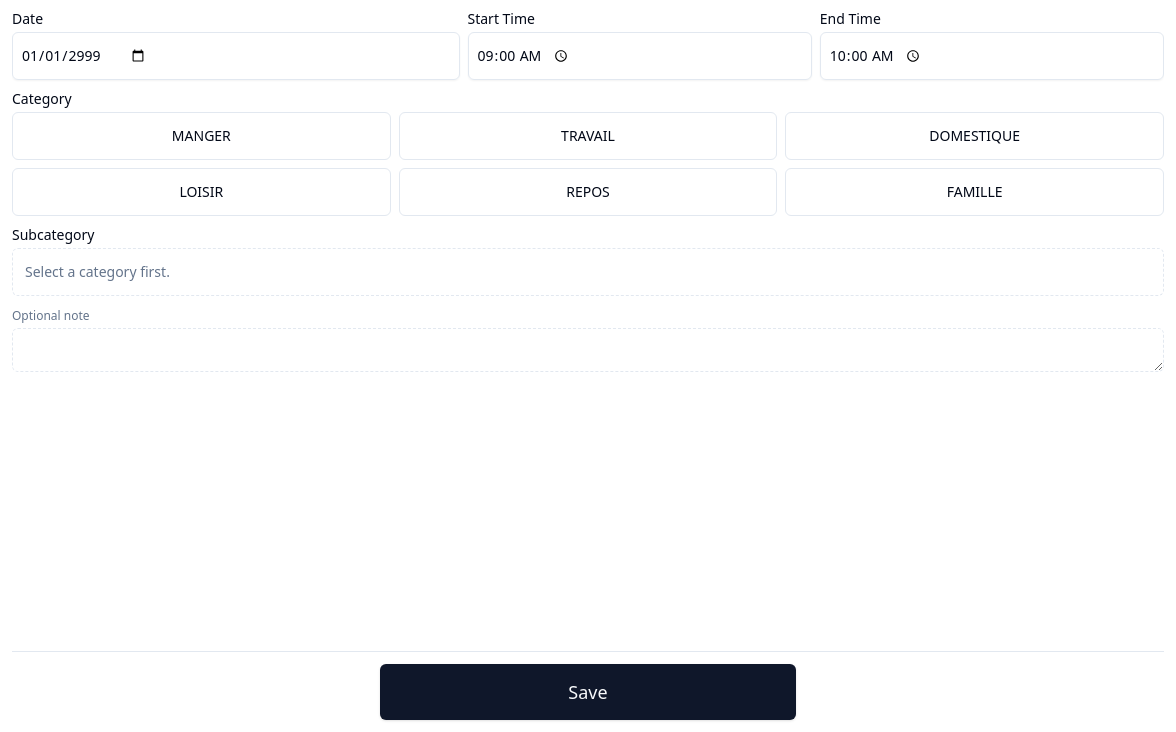
Test case: ActivityForm › blocks future activities on the client
Click the button "REPOS" at (588, 192), box left=399, top=168, right=777, bottom=216
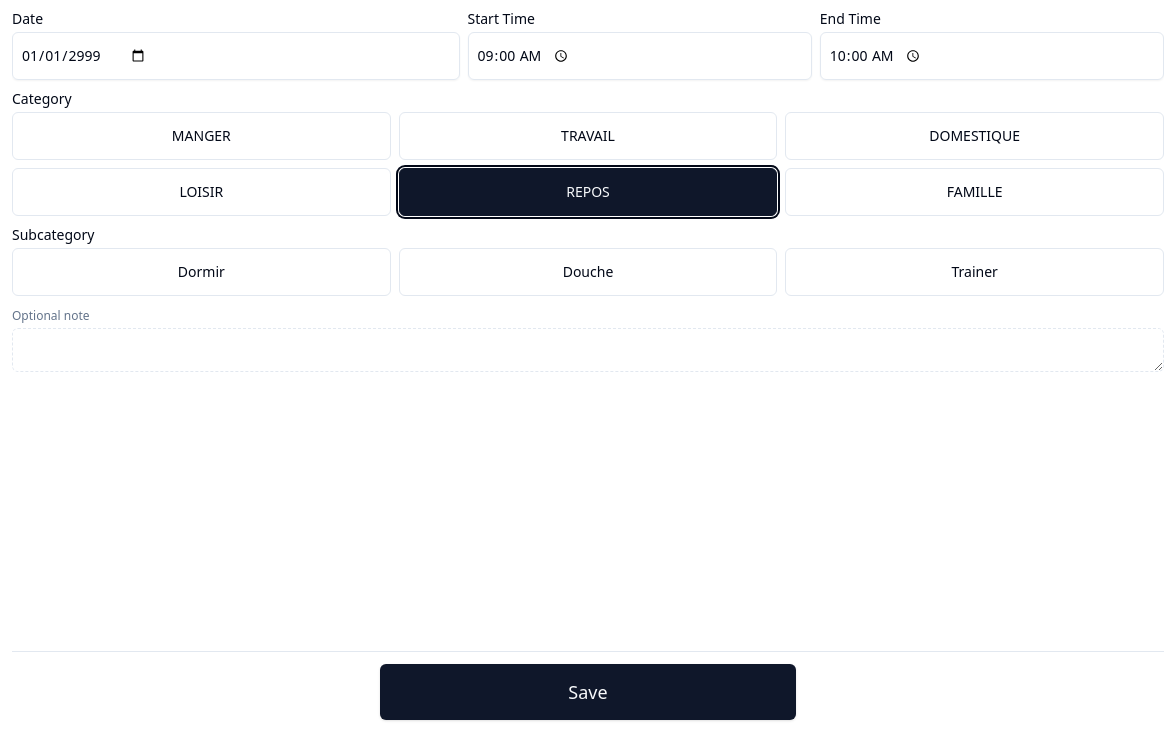
Click the button "Douche" at (588, 272), box left=399, top=248, right=777, bottom=296
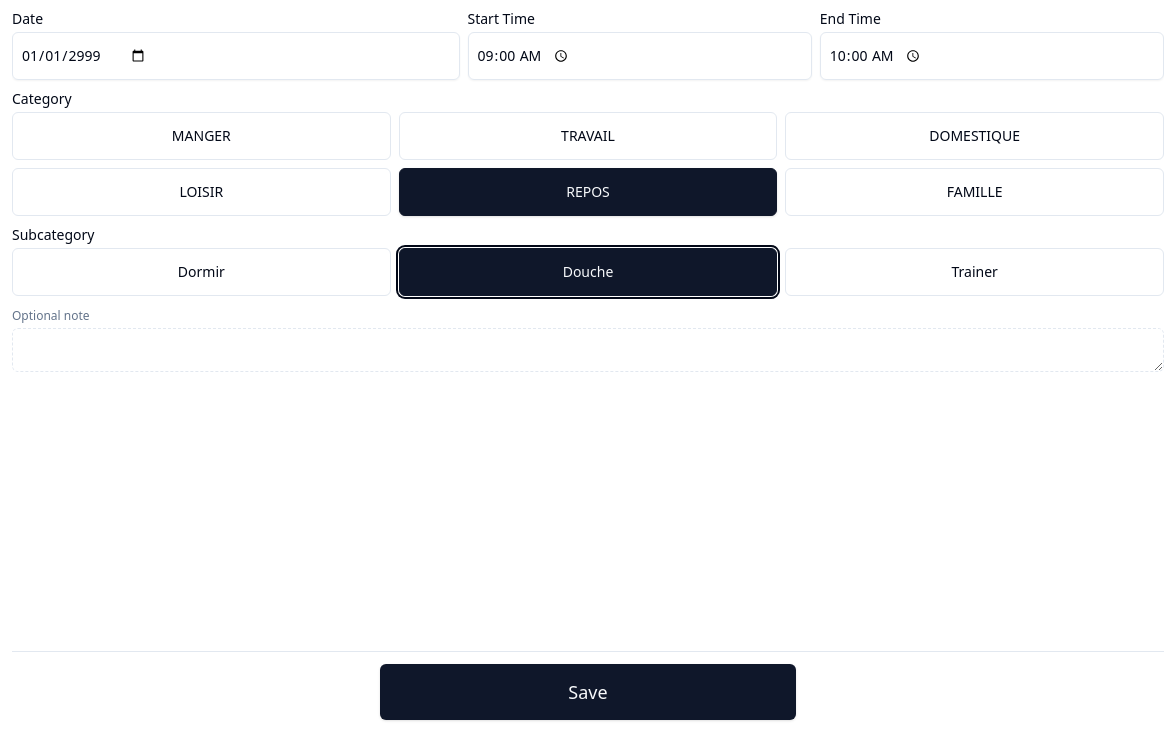
Click the button "Save" at (588, 692), box left=380, top=664, right=796, bottom=720
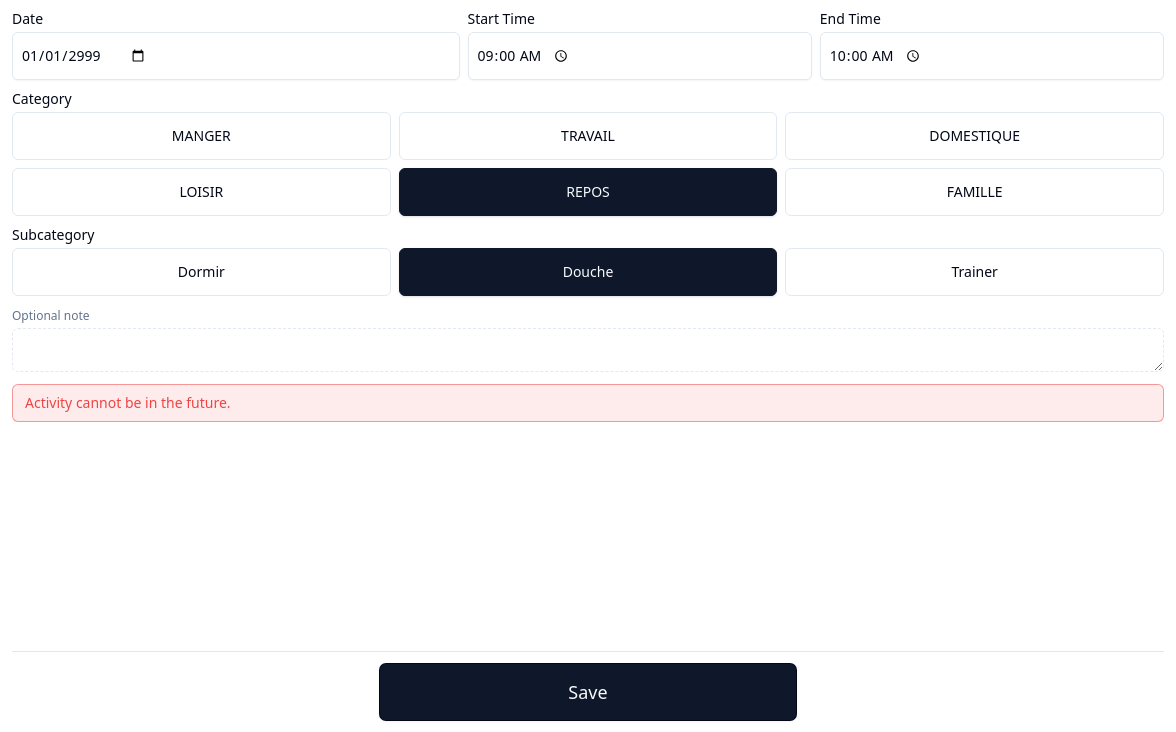
Expected: the message reads "Activity cannot be in the future.", left=25, top=393, right=231, bottom=412
